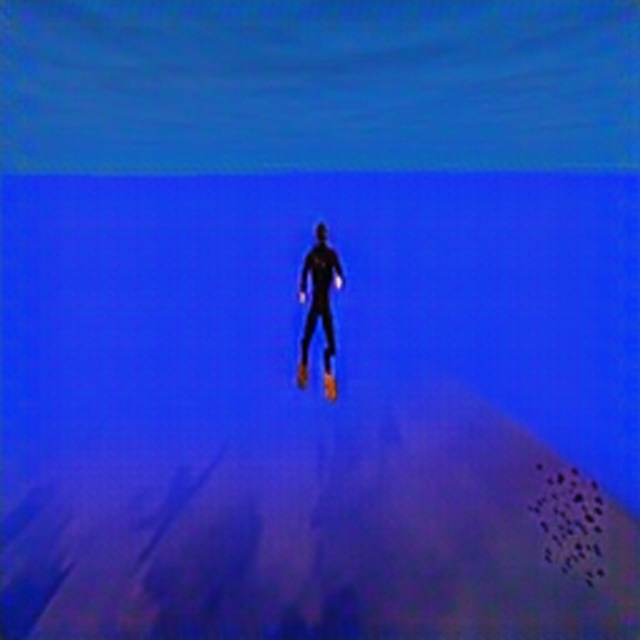diver: (293, 218, 345, 400)
